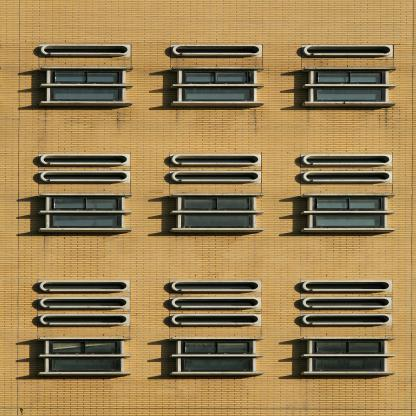Building Outline: (0, 0, 415, 415)
Cornice: (305, 338, 396, 340), (41, 337, 132, 339), (173, 337, 264, 339), (306, 67, 397, 69), (42, 66, 133, 68), (173, 67, 264, 69), (305, 194, 396, 196), (41, 193, 132, 195), (173, 194, 264, 196)
Facade: (0, 0, 415, 415)
Floor: (0, 266, 416, 408), (0, 129, 416, 258), (1, 26, 416, 121), (0, 0, 415, 17)
Floor Slab: (1, 408, 416, 416), (1, 18, 416, 26), (1, 259, 416, 267), (1, 121, 416, 129)
Sill: (306, 102, 398, 104), (305, 355, 396, 357), (305, 373, 396, 375), (41, 355, 132, 357), (41, 372, 132, 374), (173, 355, 264, 357), (173, 372, 264, 374), (305, 85, 396, 87), (42, 84, 133, 86), (42, 101, 133, 103), (173, 84, 264, 86), (173, 102, 264, 104), (305, 211, 396, 213), (305, 229, 396, 231), (41, 211, 132, 213), (41, 228, 132, 230), (173, 211, 264, 213), (173, 229, 264, 231), (50, 179, 121, 181), (312, 306, 383, 308), (50, 306, 121, 308), (181, 306, 252, 308), (314, 53, 384, 55), (183, 53, 253, 55), (51, 53, 121, 55), (312, 323, 383, 324), (50, 323, 121, 324), (181, 323, 252, 324), (312, 180, 383, 181), (181, 180, 252, 181), (312, 290, 383, 291), (50, 290, 121, 291), (181, 290, 252, 291), (313, 163, 383, 164), (51, 163, 121, 164), (182, 163, 252, 164)
Window: (313, 339, 385, 355), (313, 357, 385, 373), (50, 339, 122, 355), (182, 339, 254, 355), (314, 86, 386, 102), (51, 68, 123, 84), (182, 68, 254, 84), (182, 86, 254, 102), (313, 213, 385, 229), (50, 195, 122, 211), (182, 195, 254, 211), (50, 357, 122, 372), (182, 357, 254, 372), (314, 69, 386, 84), (50, 86, 122, 101), (313, 196, 385, 211), (50, 213, 122, 228), (182, 213, 254, 228), (306, 46, 390, 54), (175, 46, 259, 54), (43, 315, 127, 323), (44, 155, 128, 163), (174, 315, 258, 323), (175, 155, 259, 163), (43, 172, 127, 180), (174, 172, 258, 180), (43, 282, 127, 290), (174, 282, 258, 290), (174, 299, 258, 307), (306, 172, 389, 180), (306, 282, 389, 290), (306, 299, 389, 307), (44, 46, 128, 53), (306, 156, 390, 163), (43, 299, 127, 306), (306, 316, 389, 323)
